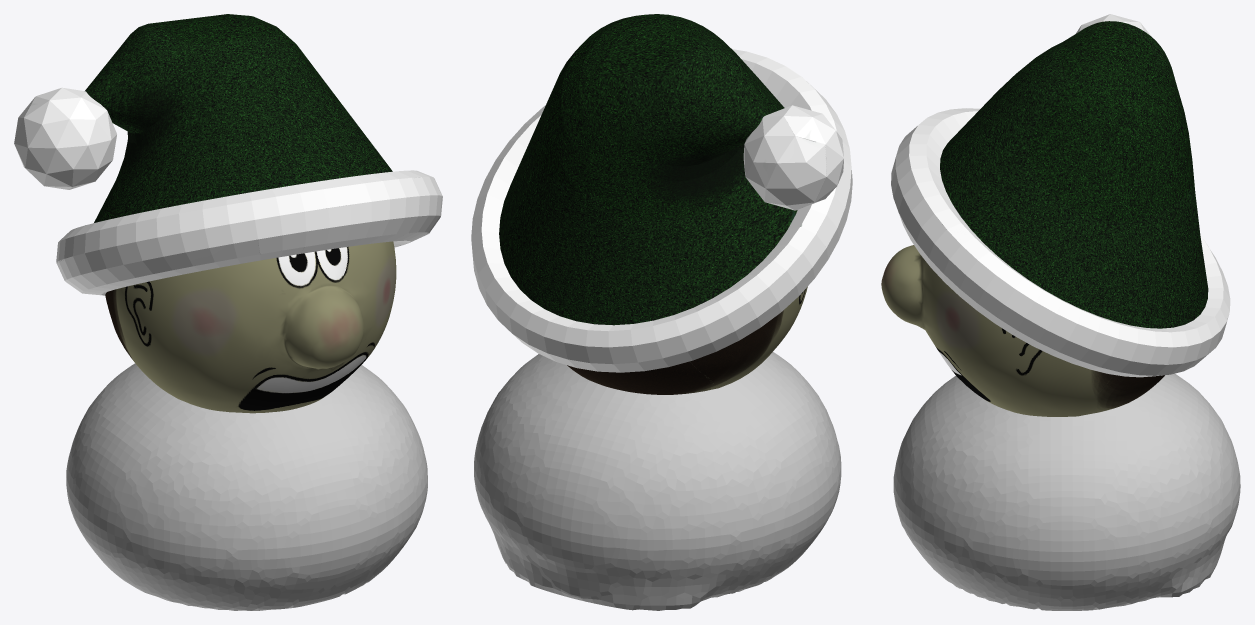
File: Char1v28.fbx
3 renders of one model, left to right at view 1: azimuth 30°, elevation 25°; view 2: azimuth 150°, elevation 25°; view 3: azimuth 270°, elevation 25°, orthographic. The views are drawn at different scales.
Visible parts, largest first — view 1: Hat, Body.001, Head; view 2: Hat, Body.001, Head; view 3: Hat, Body.001, Head.
Boxes of the visible parts, x1,y1,x2,y2 form: Hat: (14,14,442,295); Body.001: (66,363,427,610); Head: (105,241,396,413); Hat: (471,14,852,372); Body.001: (474,352,841,610); Head: (567,286,807,394); Hat: (891,14,1230,377); Body.001: (893,373,1240,610); Head: (881,245,1164,416).
Size of the model in its own units: 569 by 769 by 499.
